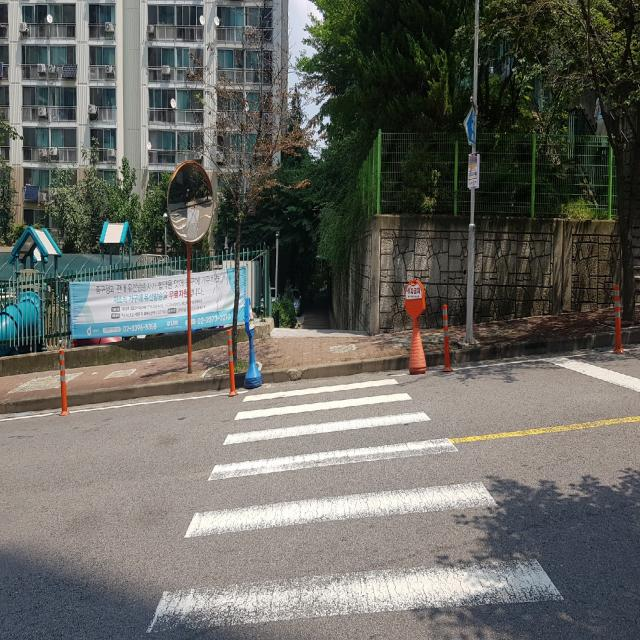횡단보도: (142, 369, 568, 640)
